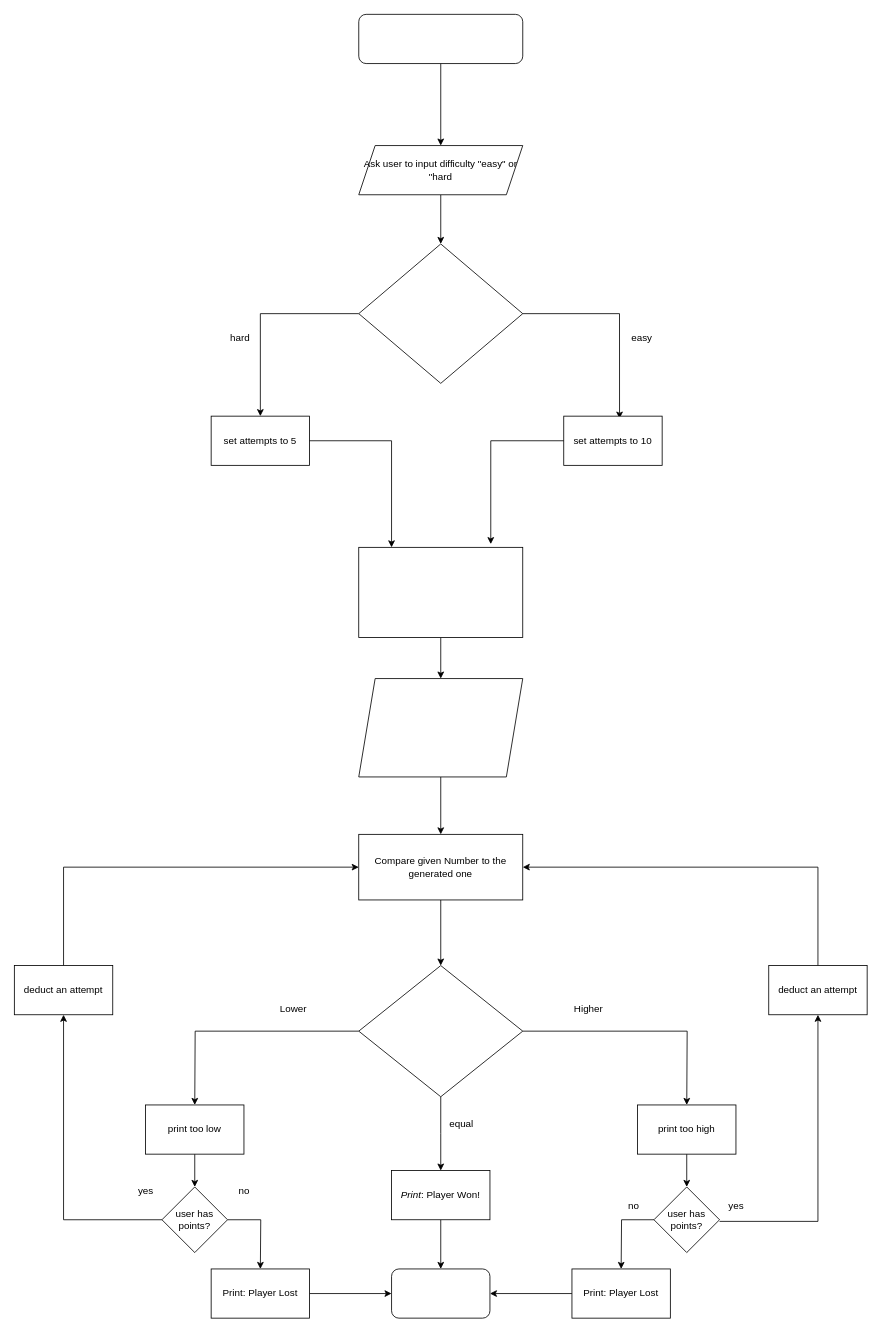
The diagram is 882 pixels wide and 1333 high, and some of its shapes have lost their labels. Here are the shapes that lost their labels. From the top down, the box of each, then its label:
(358, 14, 523, 64): START
(358, 243, 523, 383): What Player chose
(358, 547, 523, 638): Generate a Number without showing the player
(358, 678, 523, 777): Ask Player to input number
(358, 965, 523, 1097): Number Higher / Lower / Equal
(391, 1268, 490, 1318): END
